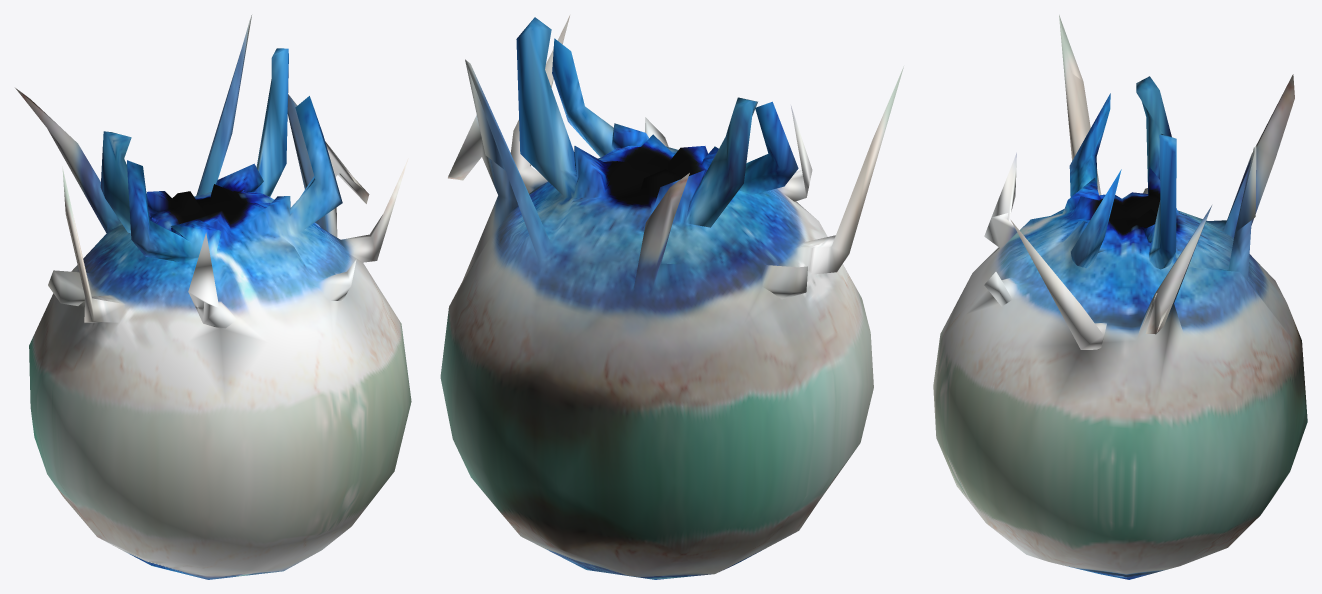
File: eye.glb
3 views of the same model, side by side, from view 1: azimuth 30°, elevation 25°; view 2: azimuth 150°, elevation 25°; view 3: azimuth 270°, elevation 25° (orthographic). The views are drawn at different scales.
Visible parts, largest first — view 1: Mesh1; view 2: Mesh1; view 3: Mesh1.
Boxes of the visible parts, box(x1,y1,x2,y2) form: Mesh1: box(15, 15, 411, 579); Mesh1: box(440, 15, 903, 579); Mesh1: box(933, 15, 1307, 579).
Bounding box in the file's own units: 29.21 × 37.12 × 27.02.
1 material, 1 textured.
